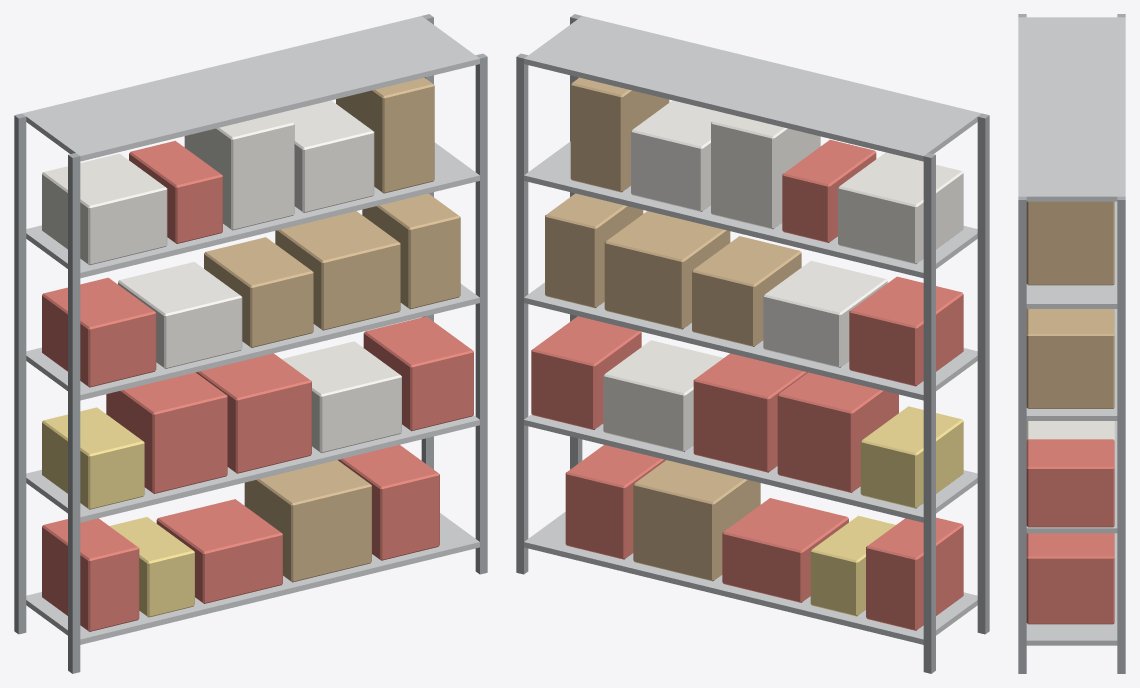
File: shelves.glb
The picture shows the model from 3 angles, left to right: view 1: azimuth 30°, elevation 25°; view 2: azimuth 150°, elevation 25°; view 3: azimuth 270°, elevation 25°; orthographic projection. The views are drawn at different scales.
Visible parts, largest first — view 1: shelves_food_r, shelves_metal, shelves_basket, shelves_paper, shelves_steel, shelves_cart_w, shelves_food_y; view 2: shelves_food_r, shelves_metal, shelves_basket, shelves_paper, shelves_steel, shelves_cart_w, shelves_food_y; view 3: shelves_metal, shelves_basket, shelves_food_r, shelves_steel, shelves_paper.
Boxes of the visible parts, x1,y1,x2,y2 form: shelves_food_r: [42, 140, 473, 631]; shelves_metal: [22, 16, 479, 644]; shelves_basket: [204, 77, 460, 582]; shelves_paper: [42, 113, 401, 452]; shelves_steel: [14, 14, 487, 673]; shelves_cart_w: [118, 100, 374, 368]; shelves_food_y: [42, 407, 194, 617]; shelves_food_r: [531, 139, 963, 630]; shelves_metal: [524, 16, 981, 644]; shelves_basket: [545, 77, 801, 581]; shelves_paper: [603, 113, 963, 451]; shelves_steel: [516, 14, 989, 673]; shelves_cart_w: [631, 100, 887, 367]; shelves_food_y: [810, 406, 963, 616]; shelves_metal: [1018, 17, 1125, 645]; shelves_basket: [1026, 201, 1114, 408]; shelves_food_r: [1026, 439, 1114, 624]; shelves_steel: [1018, 14, 1125, 673]; shelves_paper: [1026, 421, 1114, 440].
Bounding box in the file's own units: 1.6 × 1.9 × 0.39.
